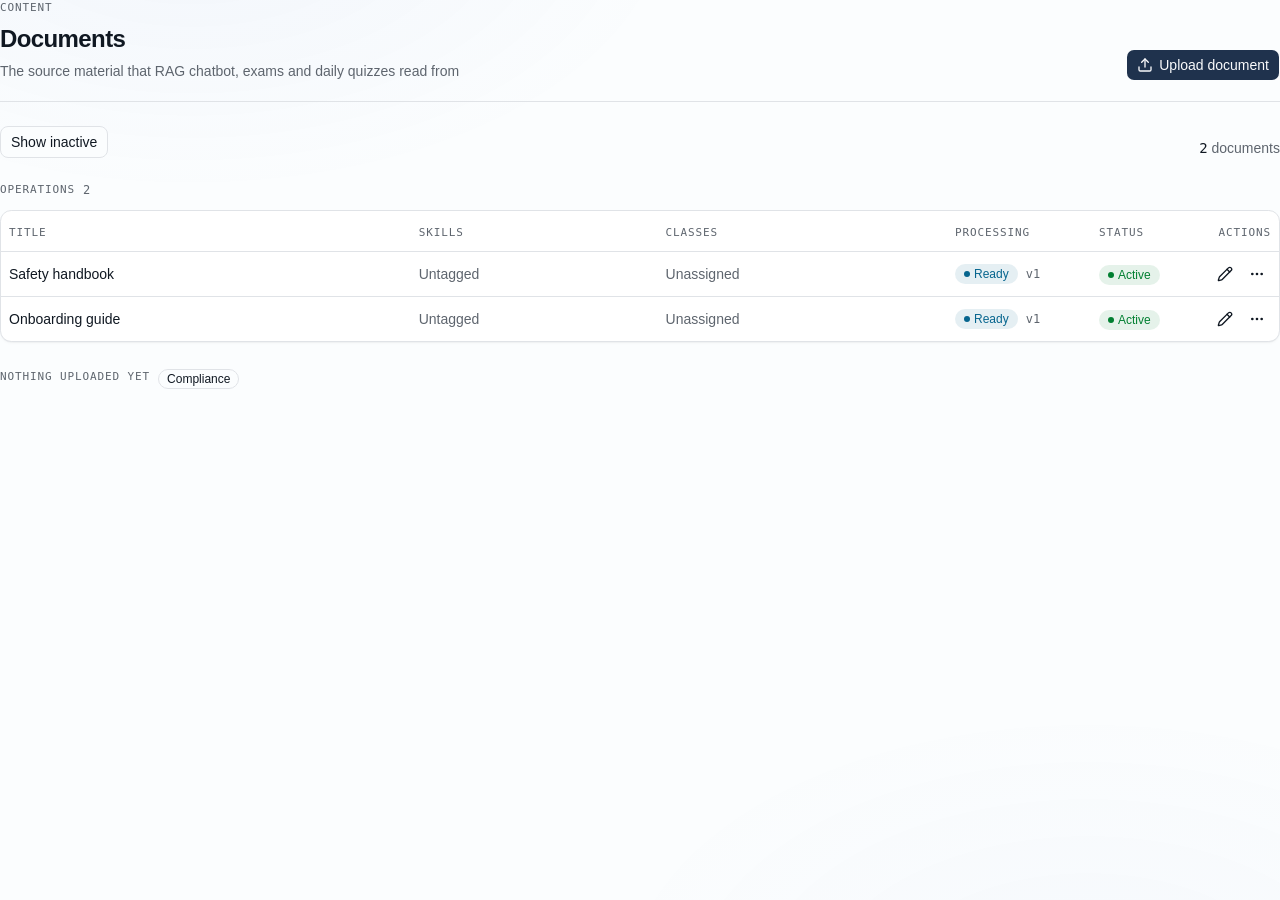
DocumentsPage edit and delete › edits a document's title and category through the dialog
The image size is (1280, 900).
Expected: the link "Safety handbook" is shown, [9,266,114,282]
Click the button named "Edit Safety handbook" at x=1225, y=274, box [1211,260,1239,288]
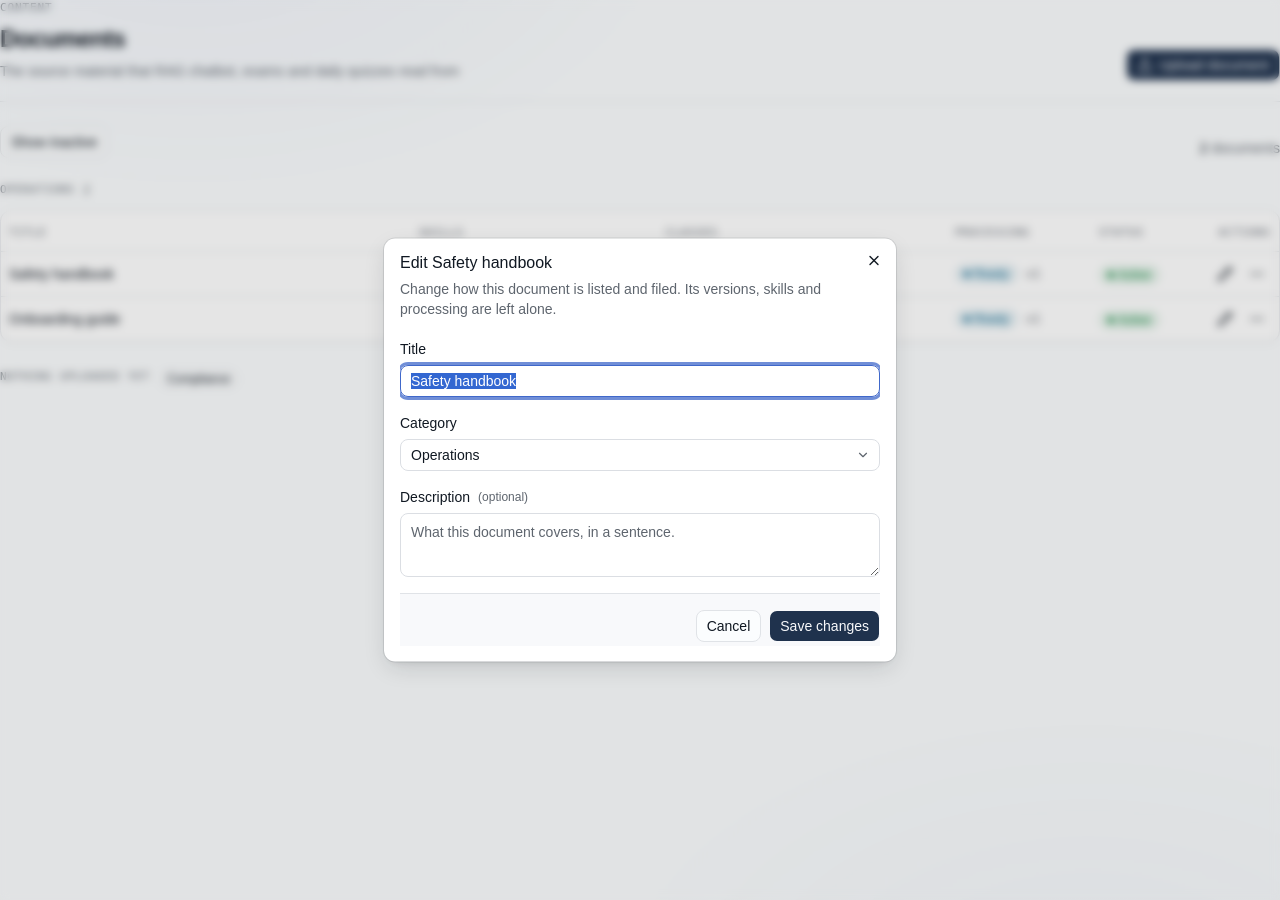
Replace the text in the field labelled "Title" with "Safety handbook 2026" at x=640, y=380, box [400,364,880,396]
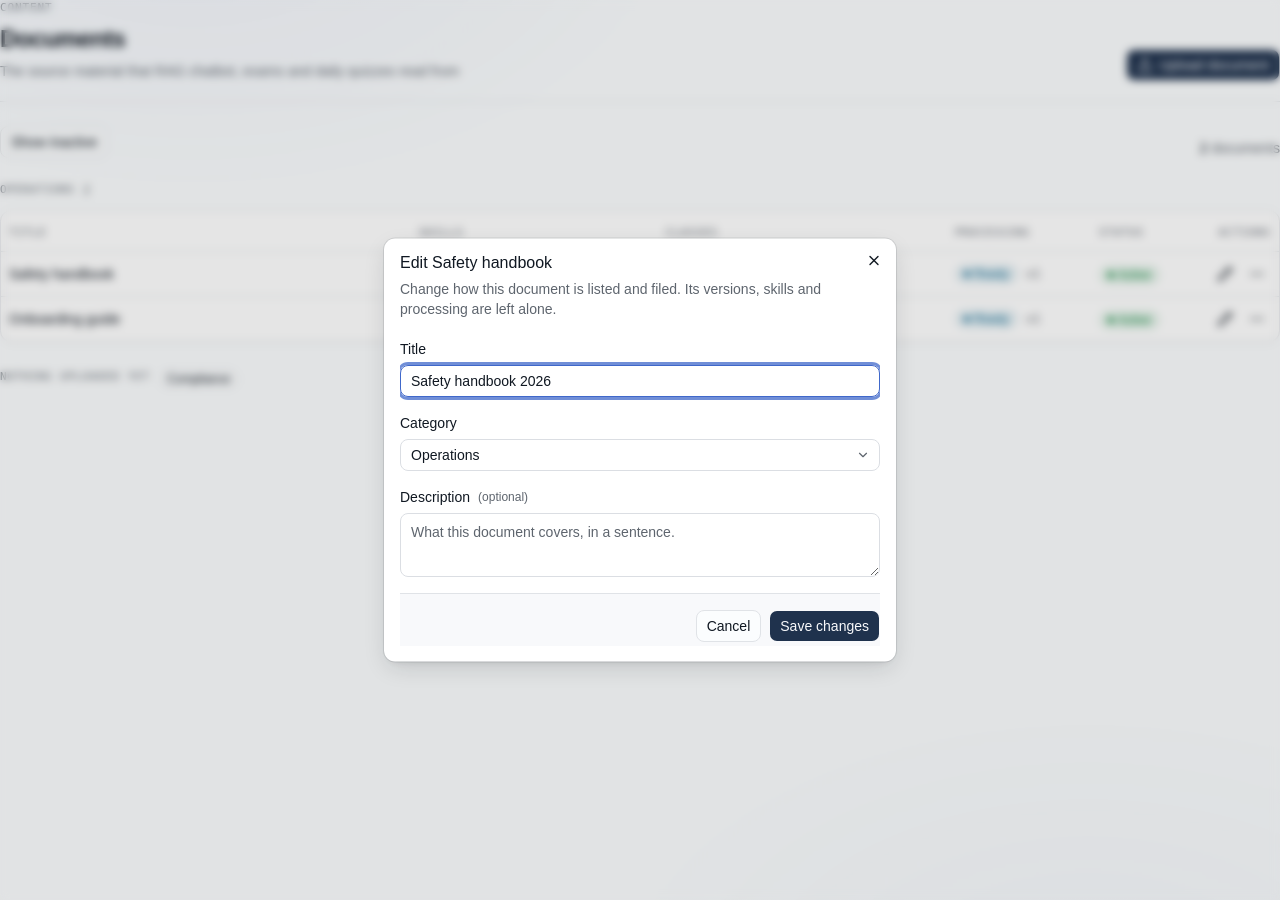
Select "Compliance" in the dropdown labelled "Category" at x=640, y=454, box [400,438,880,470]
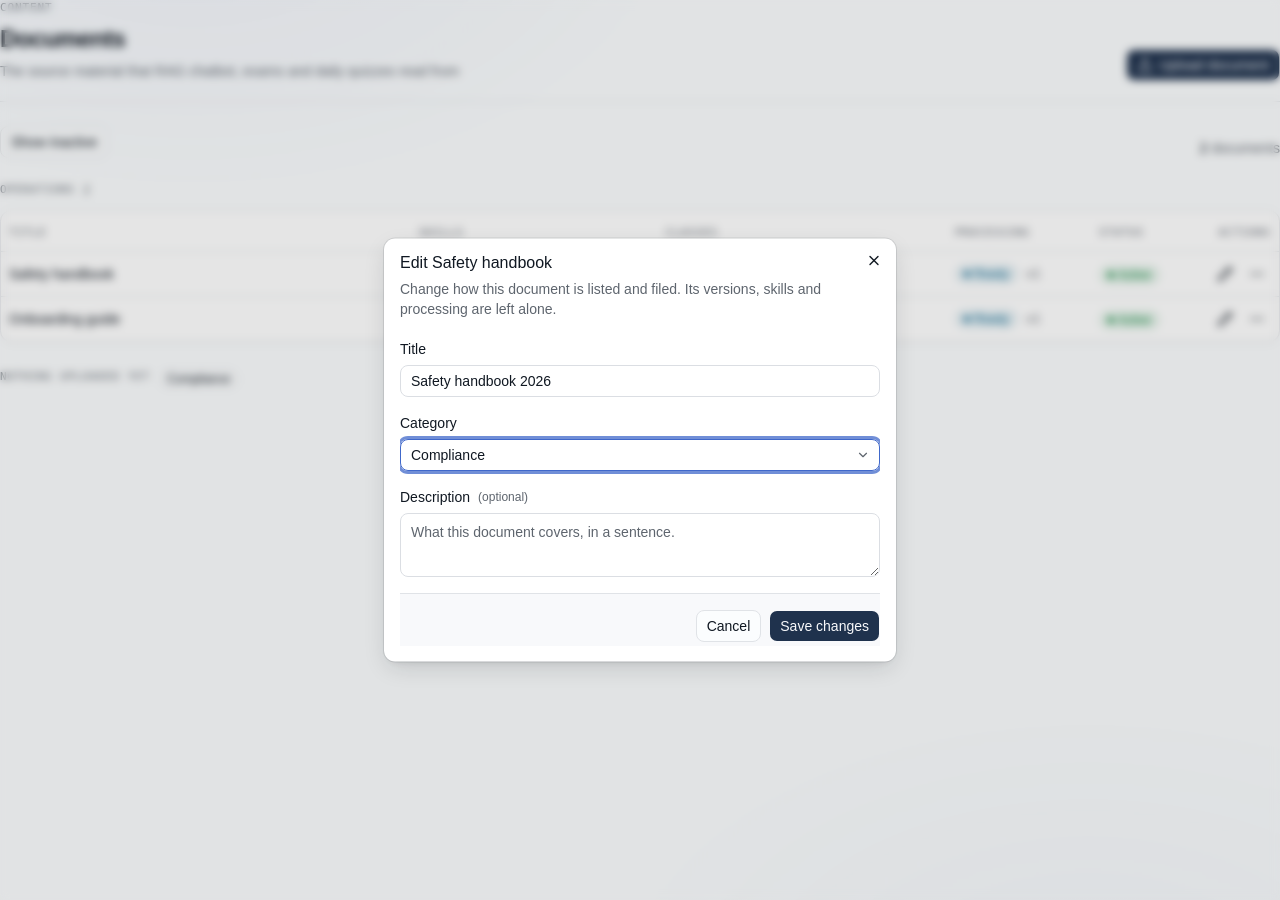
Click the button "Save changes" at x=825, y=626, box [769,610,880,642]
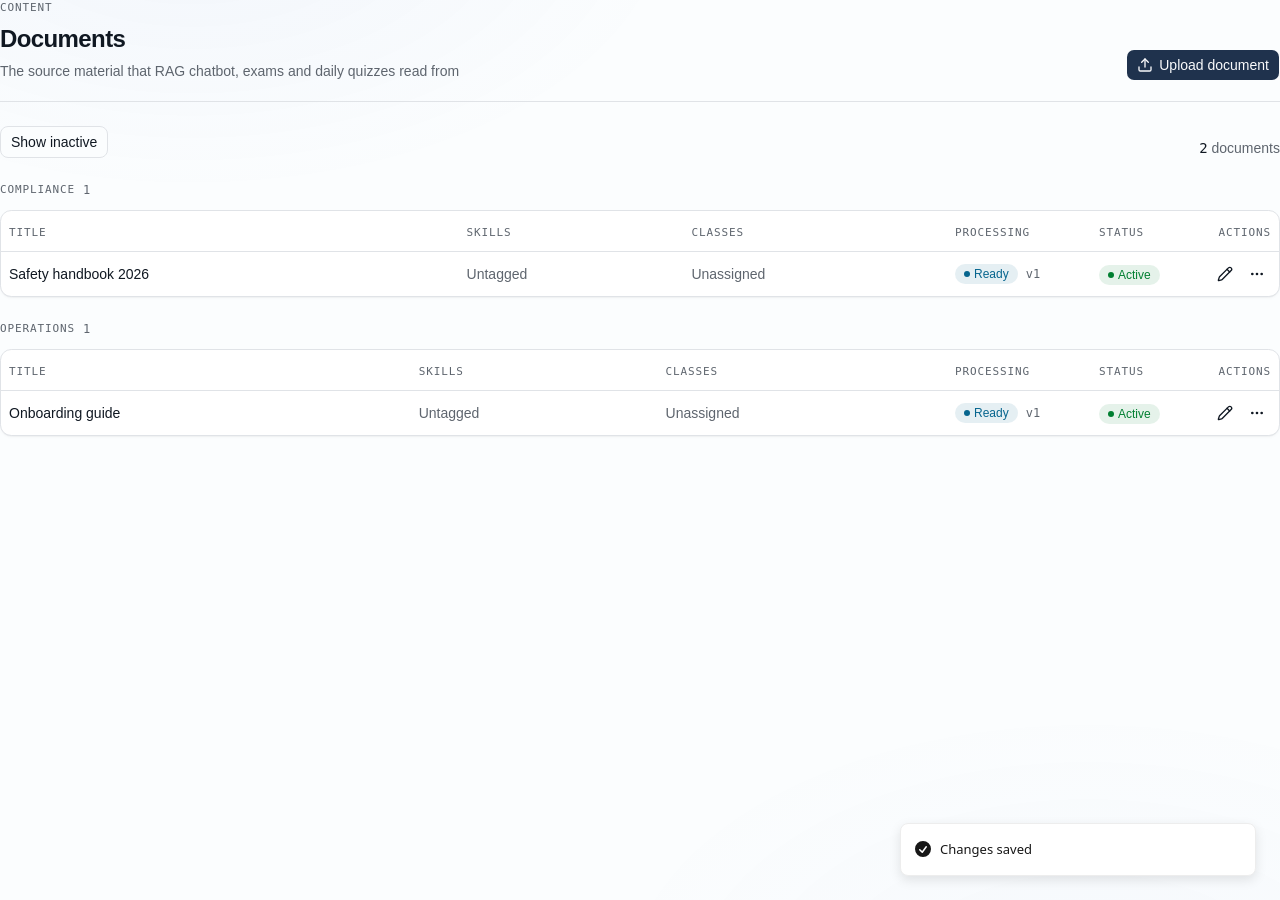
Expected: the link "Safety handbook 2026" is shown, [9,266,149,282]
